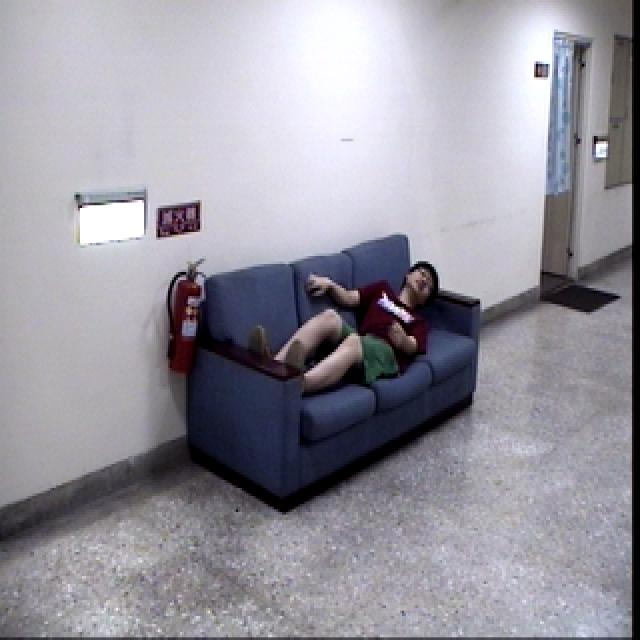lie: (244, 255, 445, 397)
